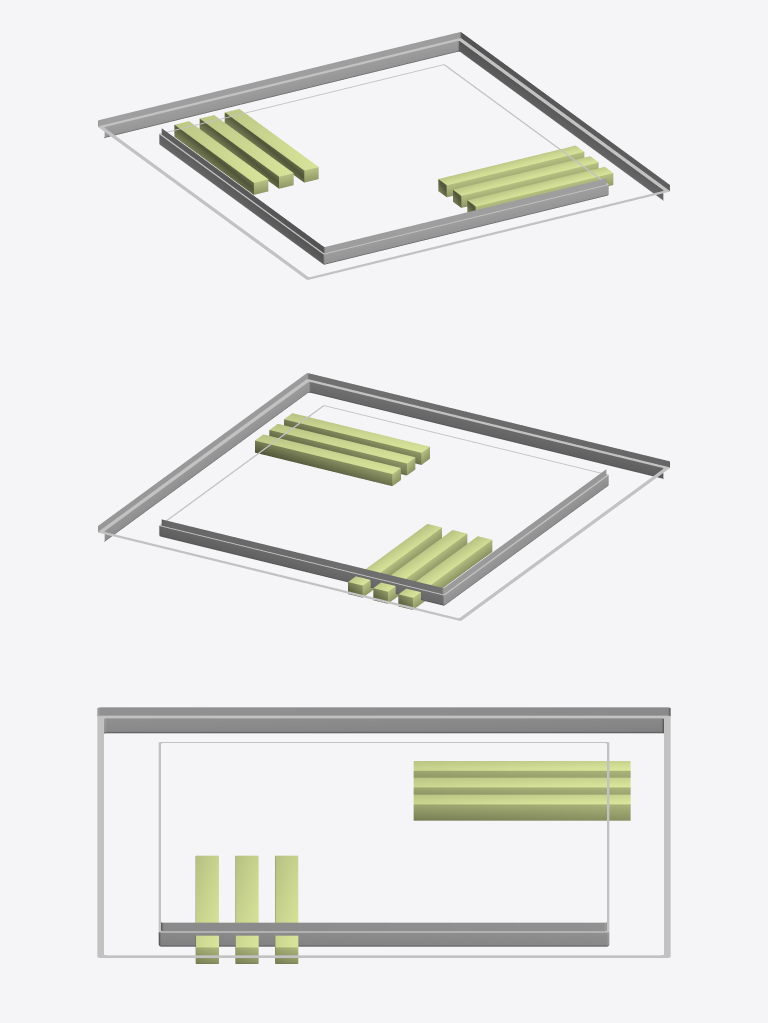
Rendered from Falsecc2.glb.
3 views of the same model, one above another, from view 1: azimuth 30°, elevation 25°; view 2: azimuth 150°, elevation 25°; view 3: azimuth 270°, elevation 25° (orthographic). The views are drawn at different scales.
Parts seen in each view (by area): view 1: Box001, Box002; view 2: Box001, Box002; view 3: Box001, Box002.
Boxes of the visible parts, <box> form: Box001: <box>98,32,669,279</box>; Box002: <box>174,109,613,212</box>; Box001: <box>98,373,669,620</box>; Box002: <box>255,413,492,609</box>; Box001: <box>97,707,670,957</box>; Box002: <box>195,761,630,963</box>.
Size of the model in its own units: 4 by 0.17 by 4.
